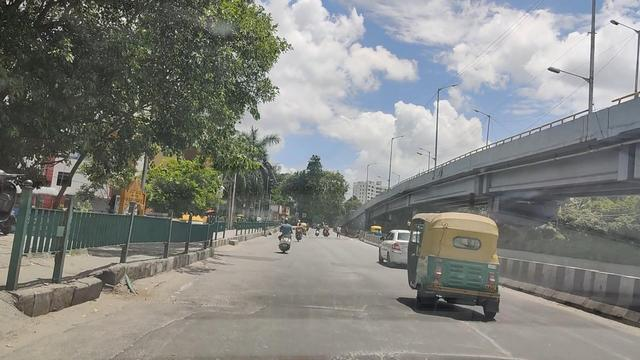LMV: (417, 213, 503, 314)
RoadDamages: (327, 338, 425, 360), (439, 326, 532, 348), (303, 295, 375, 319), (208, 288, 263, 309)
